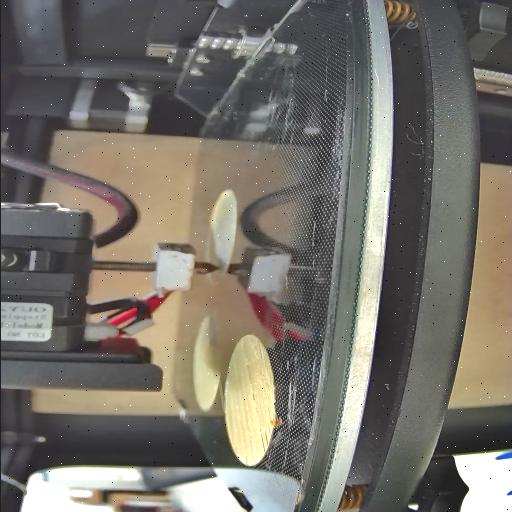under_extrusion: (254, 424, 273, 454), (244, 364, 258, 402), (256, 342, 266, 360), (264, 403, 274, 420), (240, 456, 250, 465)
